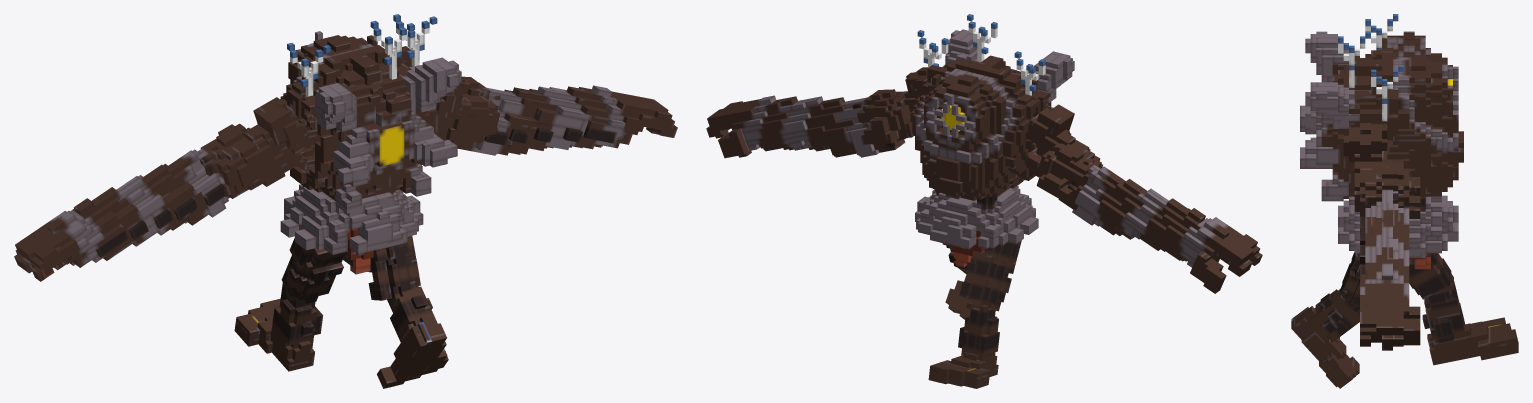
Rendered from bigboymodel.obj.
3 views of the same model, side by side, from view 1: azimuth 30°, elevation 25°; view 2: azimuth 150°, elevation 25°; view 3: azimuth 270°, elevation 25° (orthographic). The views are drawn at different scales.
Parts seen in each view (by area): view 1: voxel_file; view 2: voxel_file; view 3: voxel_file, bb_main.
Boxes of the visible parts, box(x1,y1,x2,y2) form: voxel_file: box(14, 20, 677, 388); voxel_file: box(706, 14, 1262, 388); voxel_file: box(1291, 14, 1518, 388); bb_main: box(1371, 65, 1403, 103).
Size of the model in its own units: 7.94 by 4.35 by 2.6.
